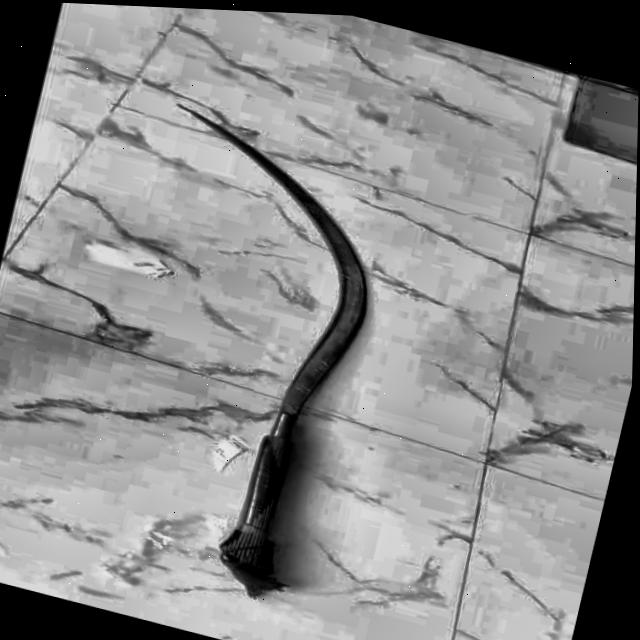celurit: (157, 88, 404, 609)
